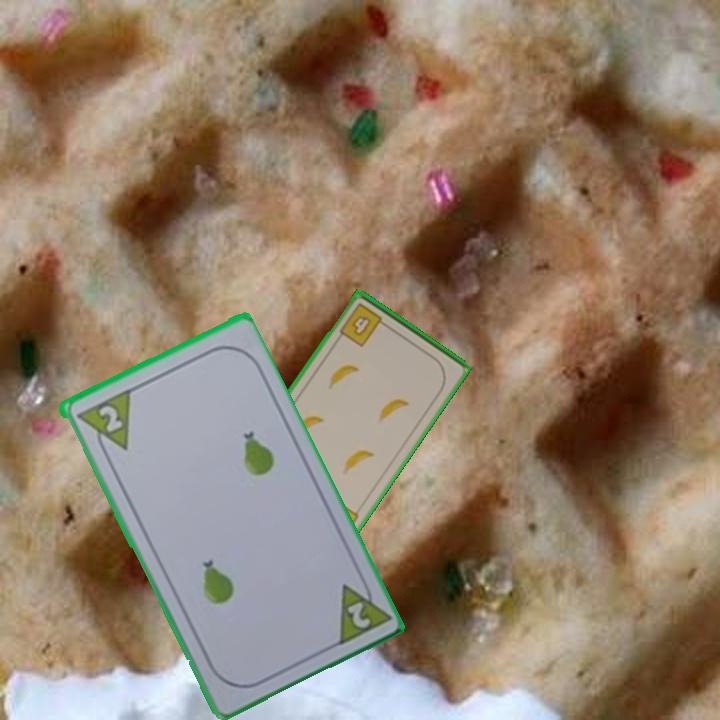2p: (94, 401, 125, 435), (342, 597, 373, 631)
4b: (336, 299, 391, 350)
